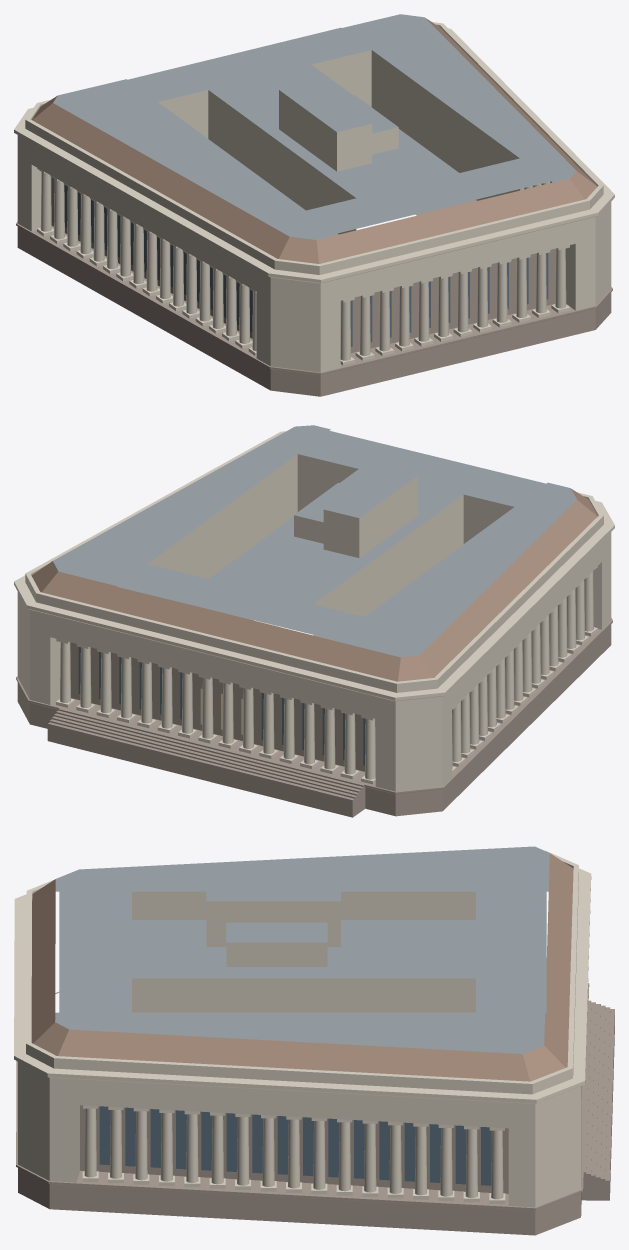
File: pit-mellon-institute.glb
3 views of the same model, one above another, from view 1: azimuth 30°, elevation 25°; view 2: azimuth 150°, elevation 25°; view 3: azimuth 270°, elevation 25° (orthographic). The views are drawn at different scales.
Visible parts, largest first — view 1: Mellon Institute; view 2: Mellon Institute; view 3: Mellon Institute.
Part boxes in pixels (x1,y1,x2,y2): Mellon Institute: (14, 14, 614, 396); Mellon Institute: (14, 425, 614, 817); Mellon Institute: (14, 846, 614, 1235).
Size of the model in its own units: 85.66 by 34.5 by 89.13.
